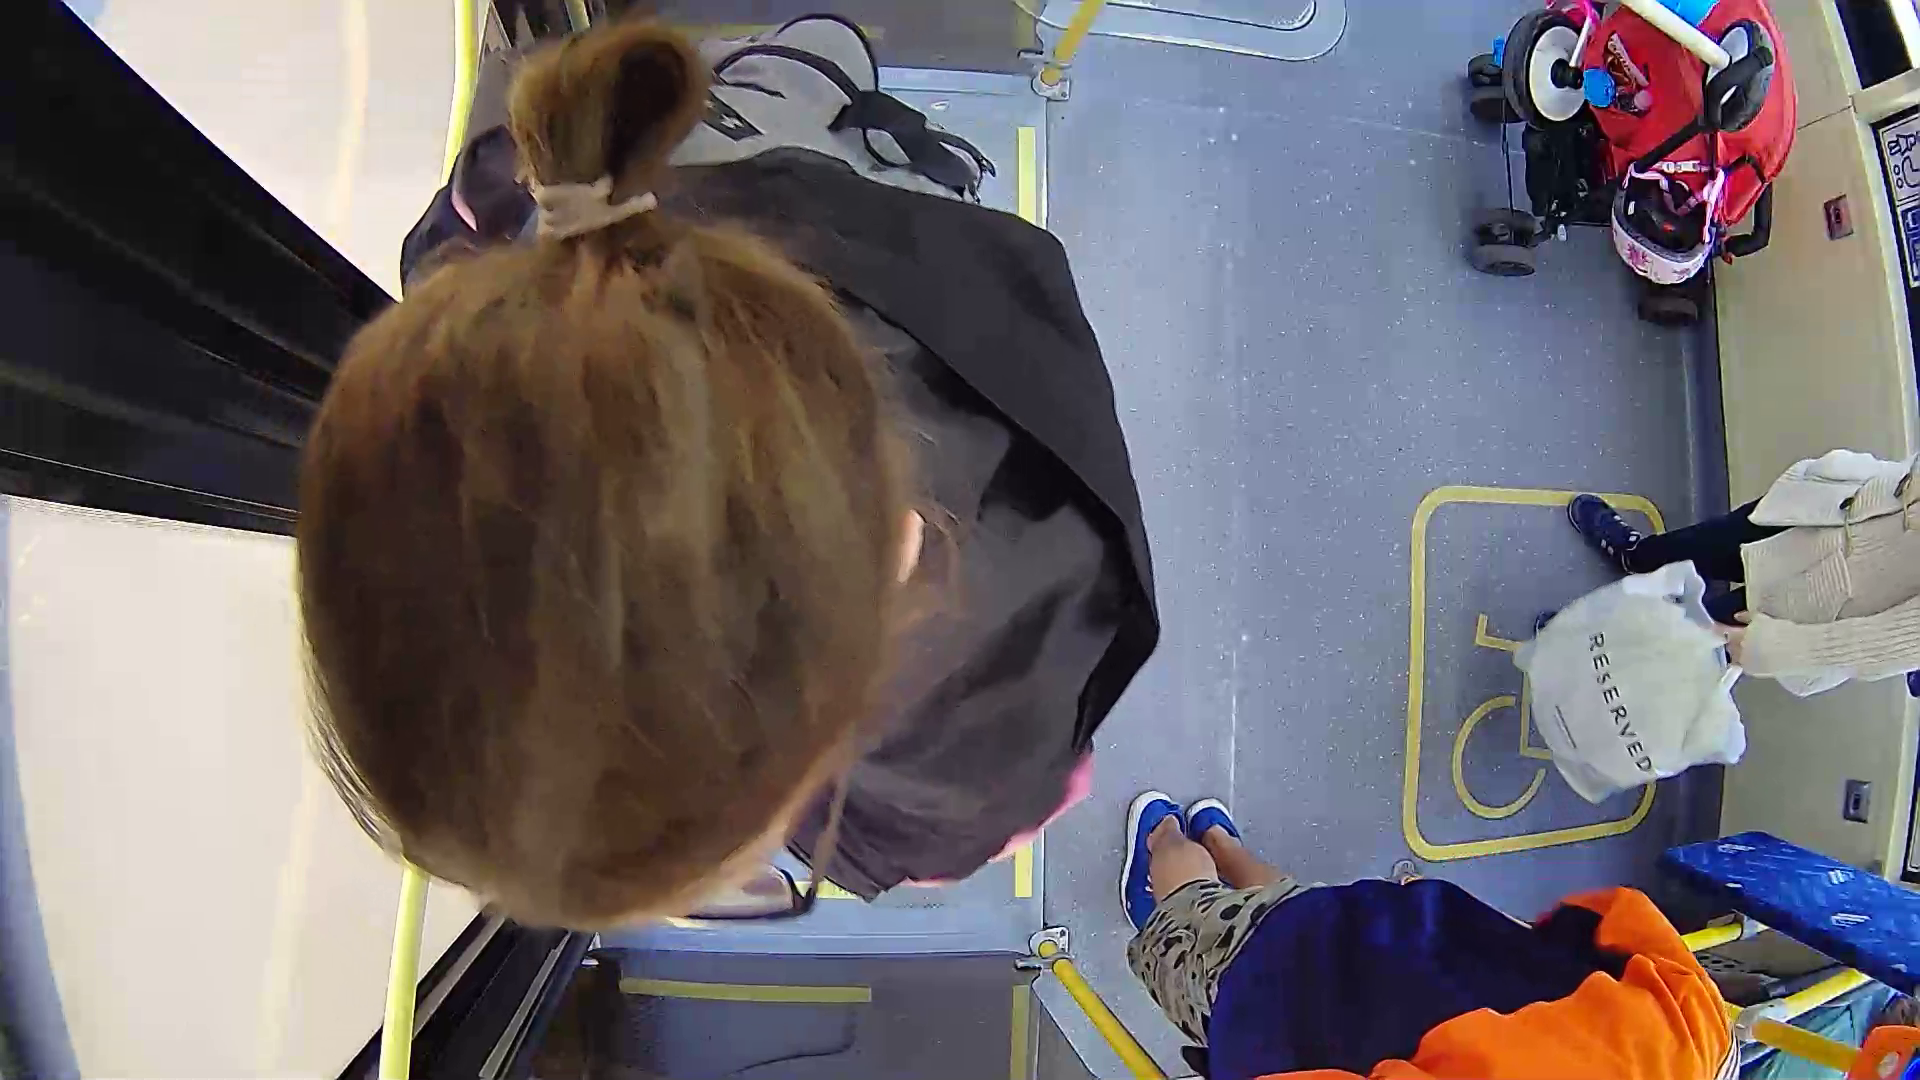person: (257, 96, 1320, 922)
